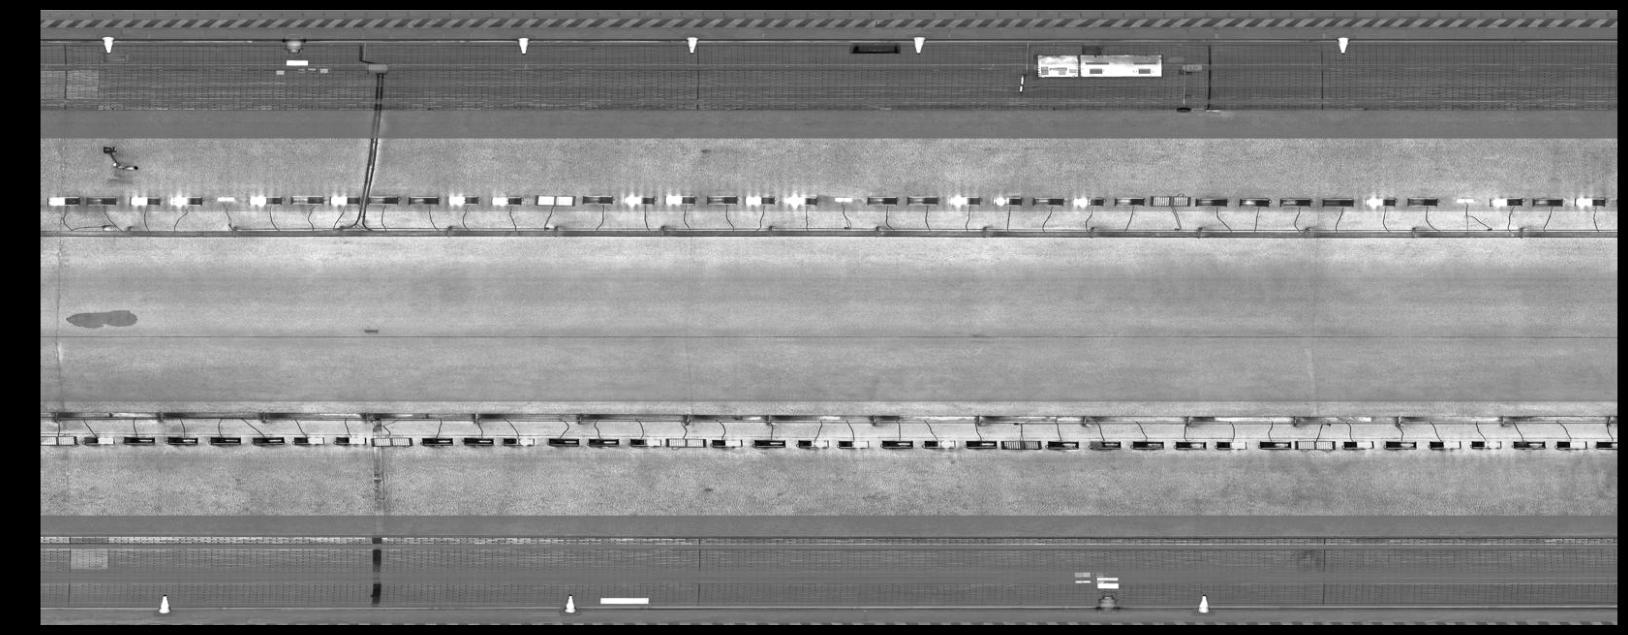light: (367, 432, 416, 449), (532, 191, 579, 209), (996, 436, 1044, 451), (1292, 436, 1337, 452), (1148, 192, 1193, 209), (782, 190, 821, 209), (40, 431, 80, 449), (663, 435, 708, 450), (443, 191, 482, 209), (485, 191, 523, 209), (621, 190, 659, 208), (1338, 436, 1379, 452), (326, 190, 365, 206), (1086, 437, 1124, 453), (1129, 436, 1167, 452), (1211, 436, 1249, 452), (1191, 193, 1231, 209), (1233, 193, 1274, 209), (1509, 437, 1549, 452), (703, 191, 740, 208), (1485, 193, 1527, 208), (1402, 193, 1441, 209), (750, 435, 789, 450), (1424, 436, 1464, 451), (1553, 437, 1593, 452), (1571, 193, 1607, 210), (166, 193, 205, 209), (1277, 193, 1315, 209), (1319, 193, 1357, 209), (1360, 193, 1399, 209), (708, 434, 747, 449), (286, 191, 326, 205), (78, 432, 118, 446), (458, 434, 498, 448), (919, 436, 959, 450), (580, 191, 616, 208), (740, 192, 778, 208), (794, 435, 832, 450), (44, 193, 83, 208), (125, 193, 164, 208), (246, 192, 286, 206), (418, 434, 458, 448), (499, 434, 539, 448), (1256, 437, 1293, 452), (81, 193, 119, 208), (545, 434, 584, 448), (1467, 437, 1505, 451), (1070, 193, 1106, 209), (1172, 437, 1208, 452), (1383, 437, 1418, 452), (205, 433, 245, 446), (863, 193, 900, 208), (1030, 193, 1067, 208), (1110, 193, 1147, 208), (249, 433, 287, 447), (291, 433, 328, 447), (663, 192, 698, 208), (118, 433, 158, 446), (833, 437, 872, 450), (904, 193, 941, 208), (947, 193, 983, 208), (1530, 194, 1567, 209), (404, 193, 442, 206), (878, 437, 917, 450), (365, 193, 403, 206), (164, 433, 201, 446), (585, 435, 622, 448), (627, 435, 664, 448), (962, 437, 1000, 450), (989, 193, 1024, 208), (1044, 438, 1084, 450), (332, 433, 368, 446), (1451, 194, 1478, 205), (1594, 436, 1617, 449), (831, 194, 856, 203), (211, 193, 238, 200)
